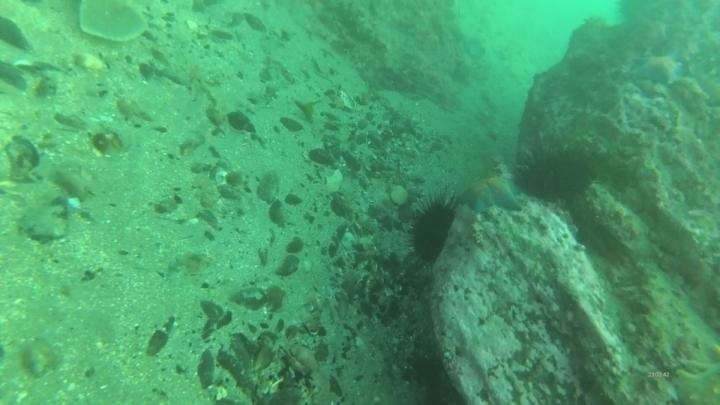echinus: (512, 141, 597, 206), (406, 195, 459, 266)
holothurian: (670, 341, 720, 405)
scallop: (74, 1, 150, 46)
starfish: (454, 172, 525, 215), (630, 49, 688, 88)
